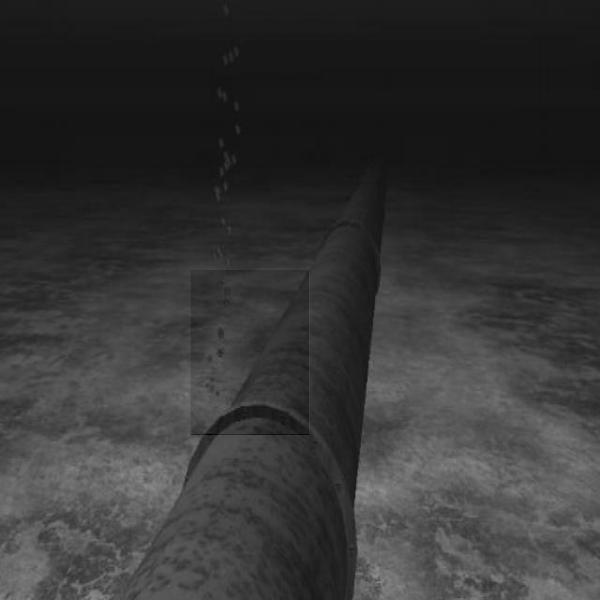water: (190, 270, 310, 434)
